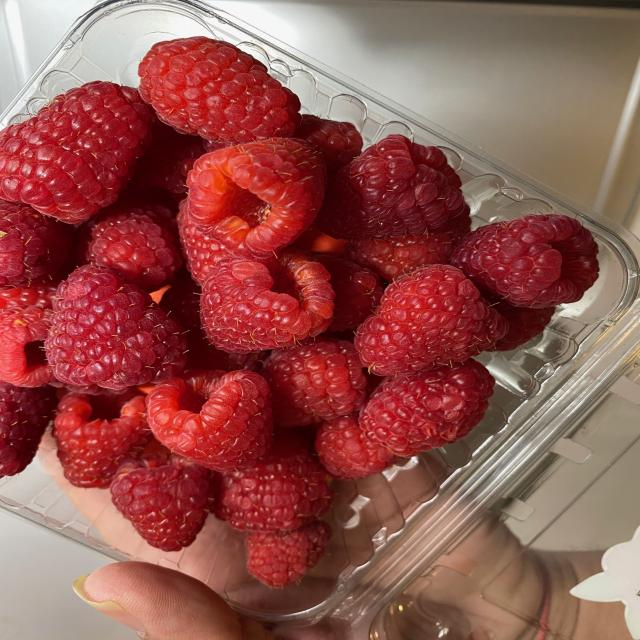raspberries: (33, 62, 534, 561)
